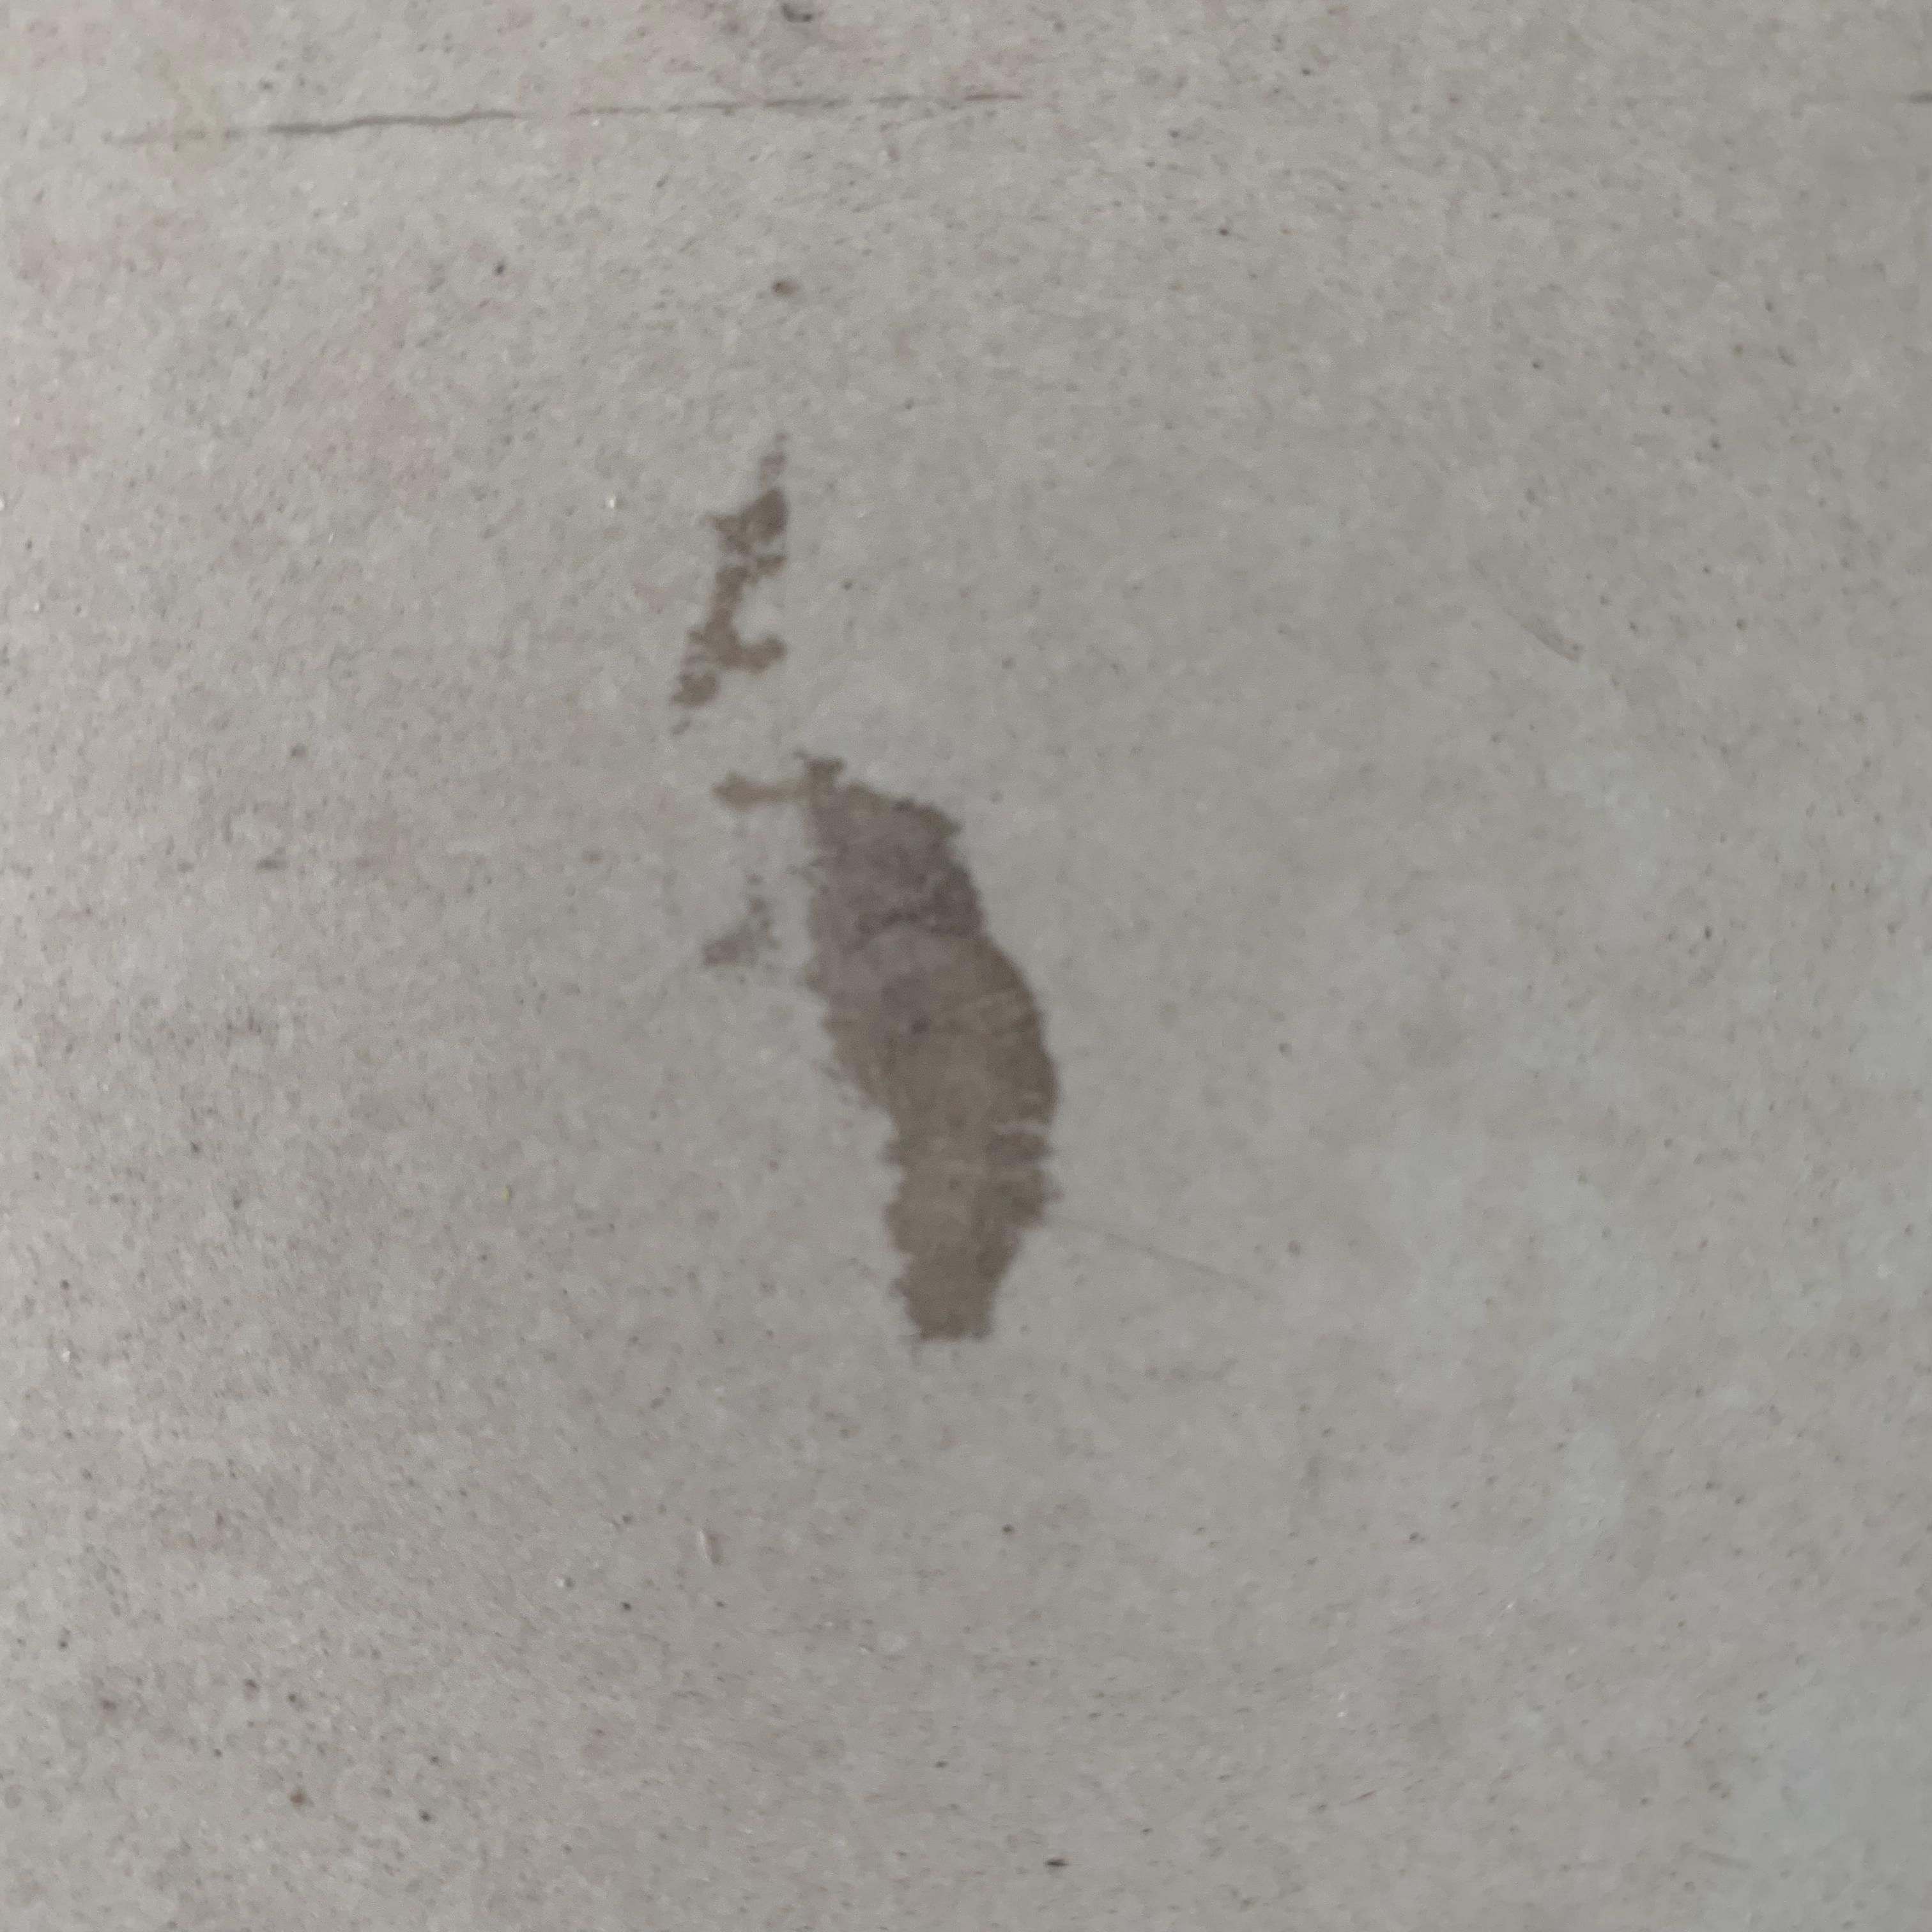grey spot: (701, 759, 1065, 1346), (669, 426, 791, 745)
